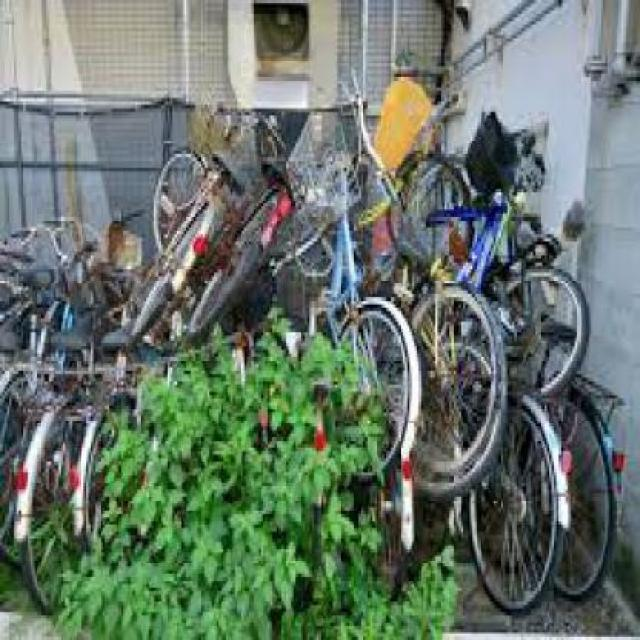bicycle: (282, 79, 438, 464)
